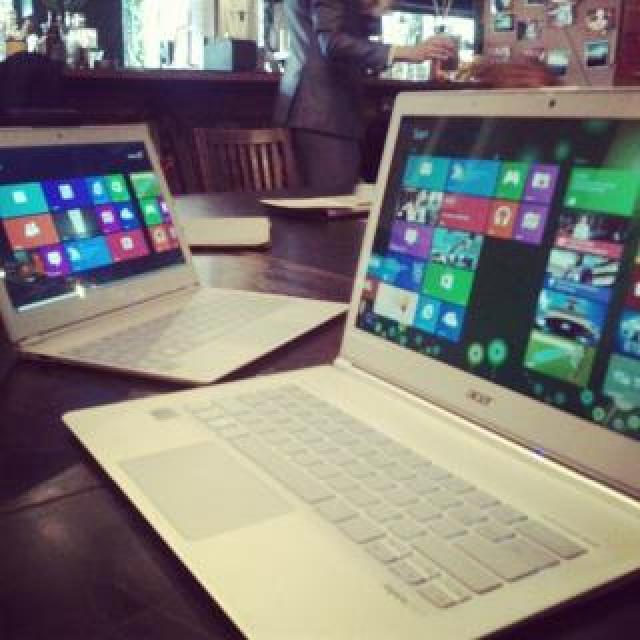laptop_computer: (100, 120, 640, 640), (0, 90, 275, 397)
